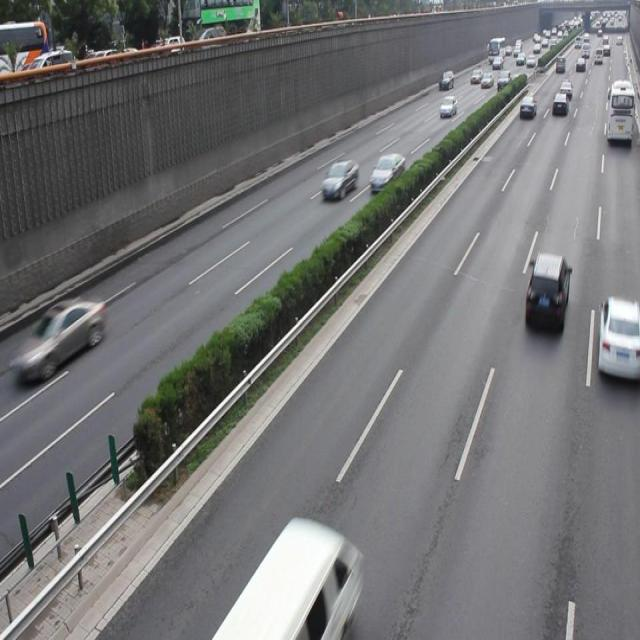car: (14, 294, 105, 378), (597, 296, 640, 382), (524, 253, 569, 334), (321, 159, 358, 201), (368, 152, 404, 193)
truck: (211, 513, 361, 640)
